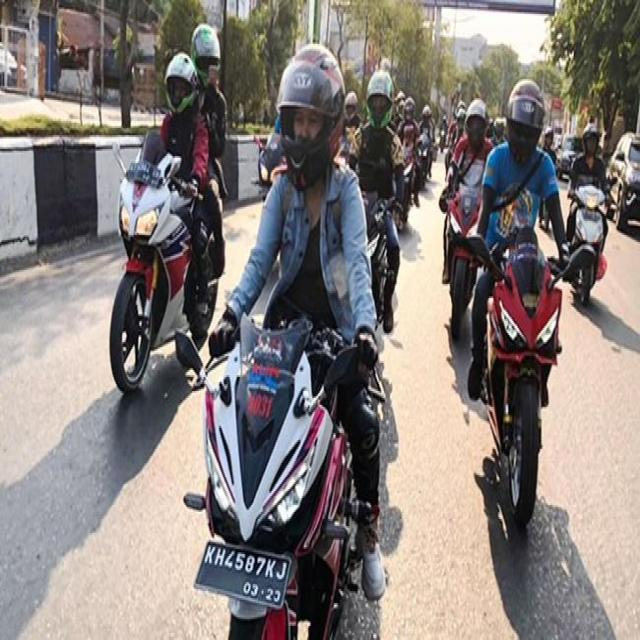Helmet: (277, 44, 344, 189), (507, 79, 544, 162), (165, 52, 198, 113), (191, 24, 220, 83), (367, 70, 393, 128), (465, 98, 486, 145), (466, 98, 486, 125), (582, 123, 599, 153), (403, 97, 415, 118), (494, 117, 505, 136), (345, 91, 357, 108), (456, 107, 465, 124), (394, 90, 405, 103), (422, 105, 432, 119), (544, 126, 553, 137), (456, 100, 465, 111), (441, 115, 447, 123)
Number Plate: (195, 541, 290, 607)
Rearview Mirror: (551, 244, 596, 286), (463, 234, 501, 278), (323, 346, 358, 393), (175, 331, 202, 373), (465, 235, 491, 265), (112, 142, 125, 174), (165, 156, 181, 178), (615, 152, 624, 161)
